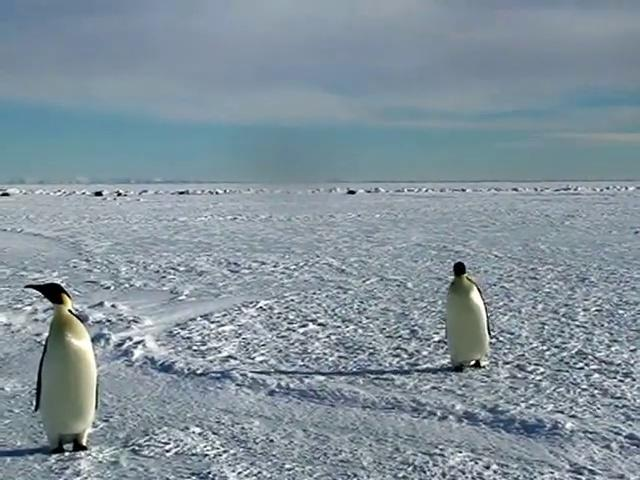animal: (25, 283, 97, 452)
